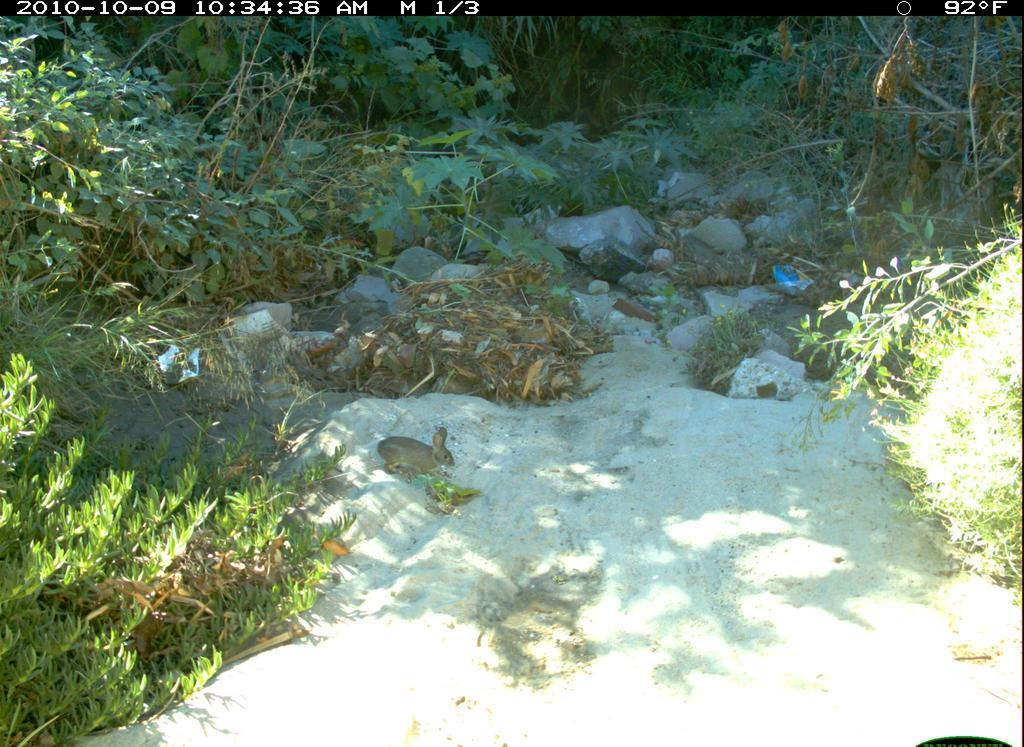rabbit: (369, 417, 477, 500)
